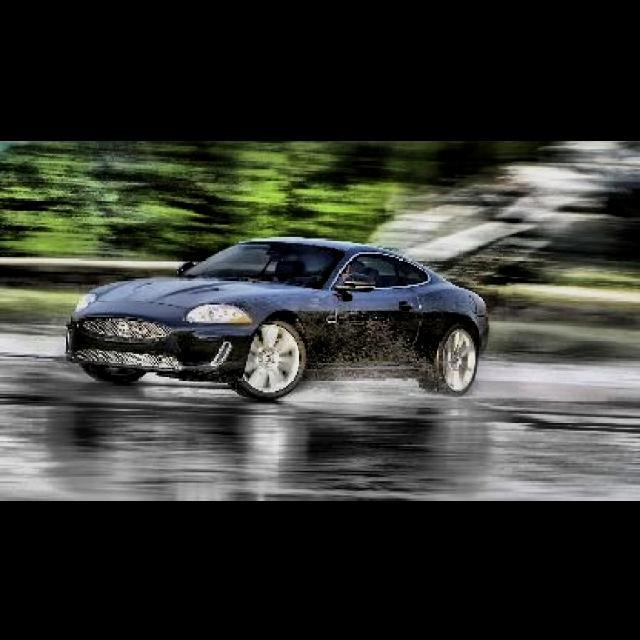black: (34, 230, 496, 392)
